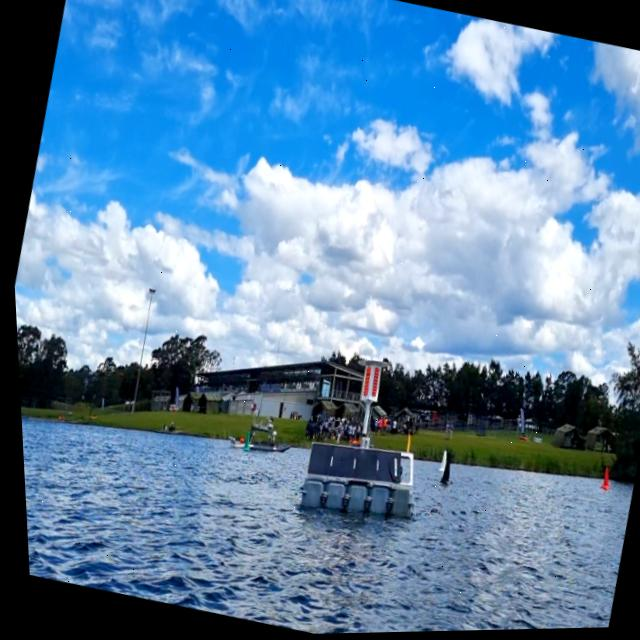led: (363, 367, 378, 400), (355, 368, 370, 399)
